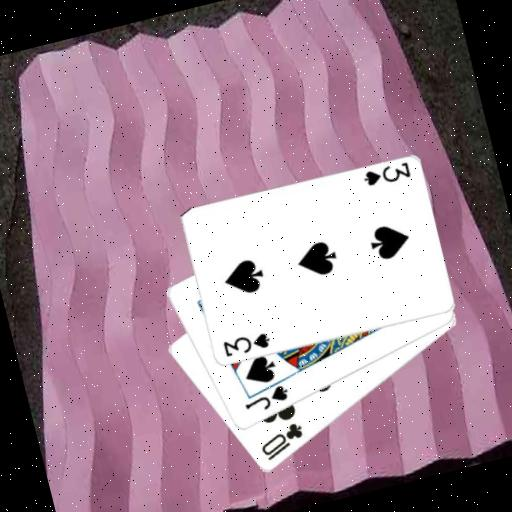10C: (253, 419, 309, 465)
3S: (219, 328, 273, 361), (359, 159, 413, 191)
JS: (239, 381, 293, 417)
